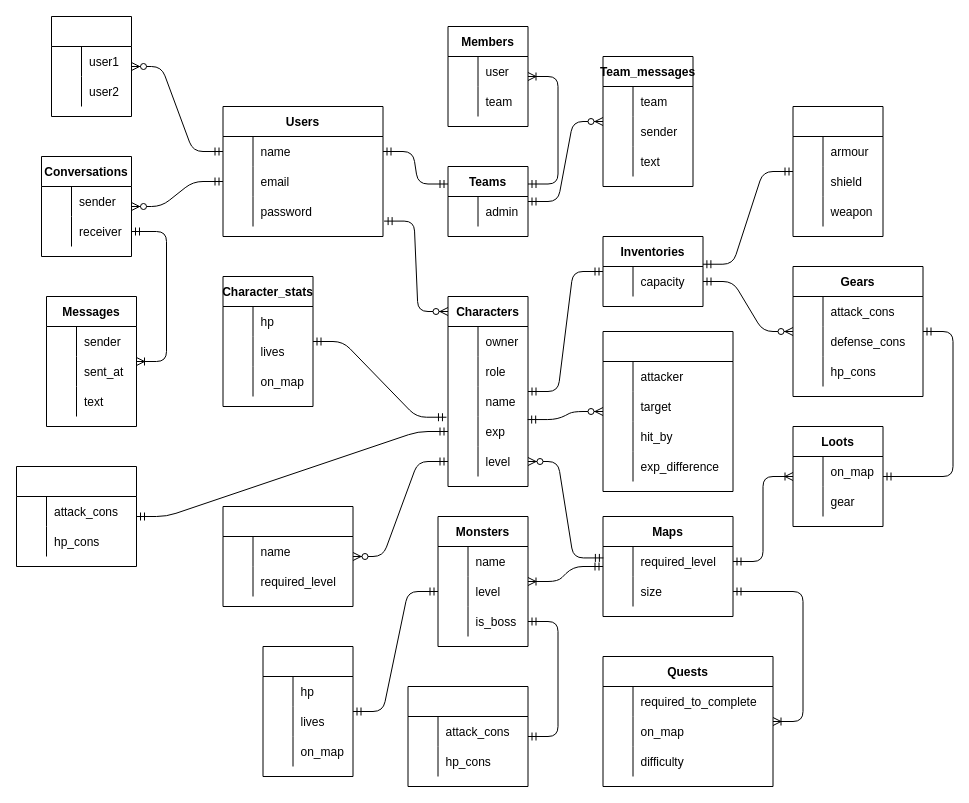
The diagram is 969 pixels wide and 803 high, and some of its shapes have lost their labels. The box of each missing label's shape, as (x1, y1, x2, y2) in pixels:
Battle_logs: (602, 330, 733, 492)
Equipped_gears: (792, 106, 883, 236)
Friendships: (50, 16, 132, 116)
Monster_stats: (262, 646, 353, 776)
Monster_types: (407, 686, 528, 786)
Roles: (16, 466, 136, 566)
Skills: (222, 506, 353, 606)
